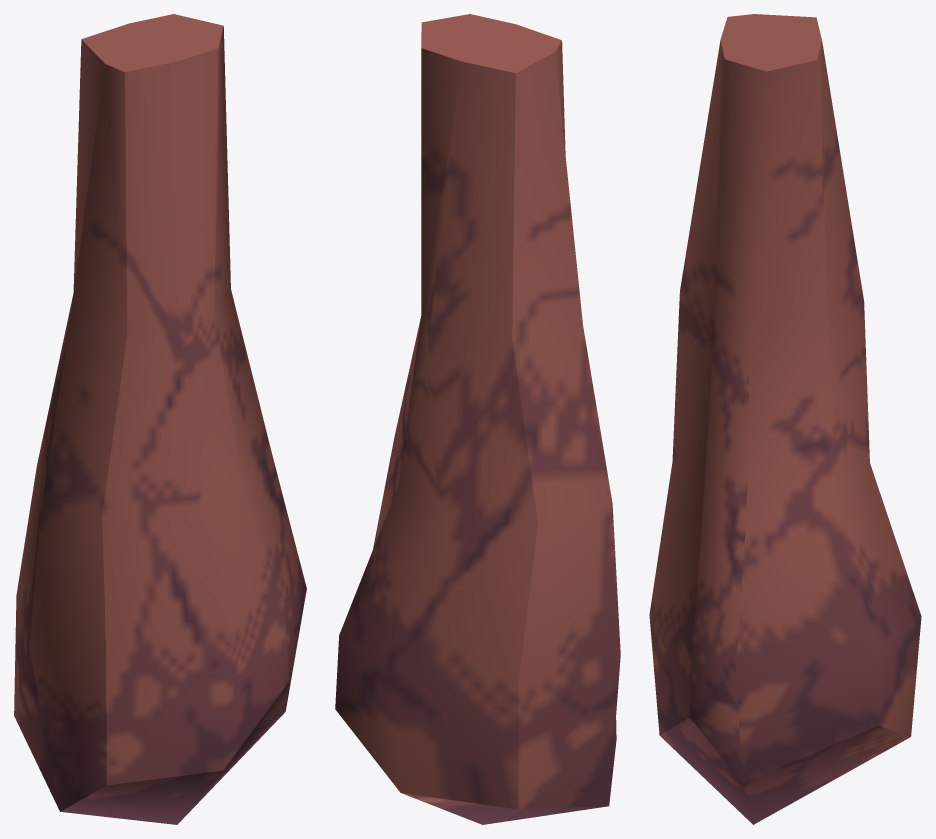
Rendered from model_pillar_4.obj.
3 renders of one model, left to right at view 1: azimuth 30°, elevation 25°; view 2: azimuth 150°, elevation 25°; view 3: azimuth 270°, elevation 25°, orthographic.
Visible parts, largest first — view 1: obj_pillar_1; view 2: obj_pillar_1; view 3: obj_pillar_1.
Part boxes in pixels (x1=…): obj_pillar_1: x1=14, y1=14, x2=306, y2=824; obj_pillar_1: x1=335, y1=14, x2=620, y2=824; obj_pillar_1: x1=649, y1=14, x2=921, y2=824.
Size of the model in its own units: 6.75 by 19.17 by 6.07.
1 material, 1 textured.
